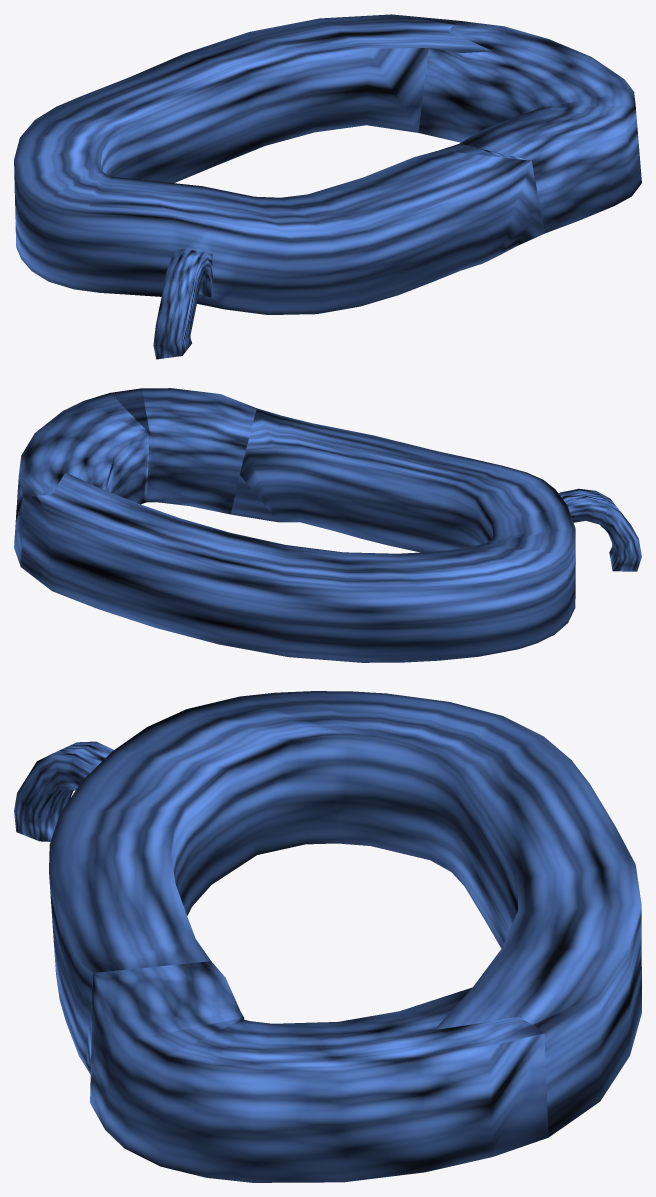
The model's file is Island3.fbx.
The picture shows the model from 3 angles, top to bottom: view 1: azimuth 30°, elevation 25°; view 2: azimuth 150°, elevation 25°; view 3: azimuth 270°, elevation 25°; orthographic projection. The views are drawn at different scales.
Parts seen in each view (by area): view 1: makevr_0018.001; view 2: makevr_0018.001; view 3: makevr_0018.001.
Part boxes in pixels (box(x1,y1,x2,y2)): makevr_0018.001: box(14, 14, 641, 359); makevr_0018.001: box(14, 388, 641, 662); makevr_0018.001: box(14, 691, 641, 1182).
Bounding box in the file's own units: 1589 × 272 × 1090.
